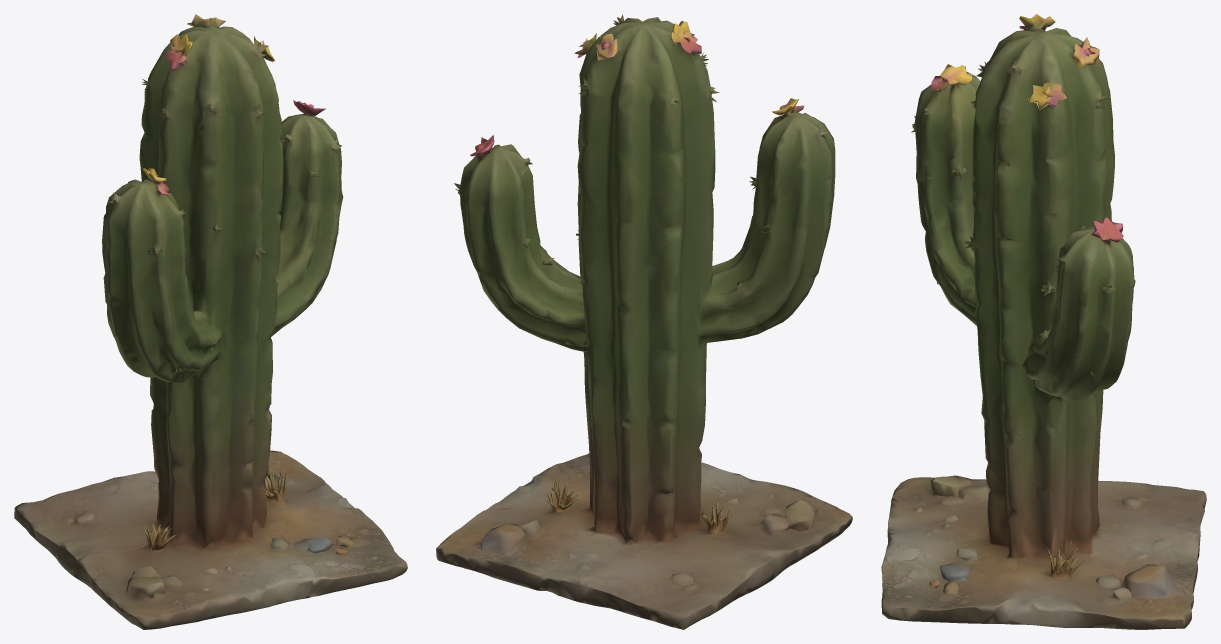
Rendered from journey_cactus.glb.
3 renders of one model, left to right at view 1: azimuth 30°, elevation 25°; view 2: azimuth 150°, elevation 25°; view 3: azimuth 270°, elevation 25°, orthographic. The views are drawn at different scales.
Visible parts, largest first — view 1: tripo_node_0e46baba-b8b1-4cb7-92e7-fa8e91ec0fc7; view 2: tripo_node_0e46baba-b8b1-4cb7-92e7-fa8e91ec0fc7; view 3: tripo_node_0e46baba-b8b1-4cb7-92e7-fa8e91ec0fc7.
Part boxes in pixels (box(x1,y1,x2,y2)): tripo_node_0e46baba-b8b1-4cb7-92e7-fa8e91ec0fc7: box(14, 14, 407, 629); tripo_node_0e46baba-b8b1-4cb7-92e7-fa8e91ec0fc7: box(436, 14, 852, 629); tripo_node_0e46baba-b8b1-4cb7-92e7-fa8e91ec0fc7: box(881, 14, 1206, 629).
Size of the model in its own units: 0.6024 by 1 by 0.5522.
Materials: 1 (1 with a texture image).
